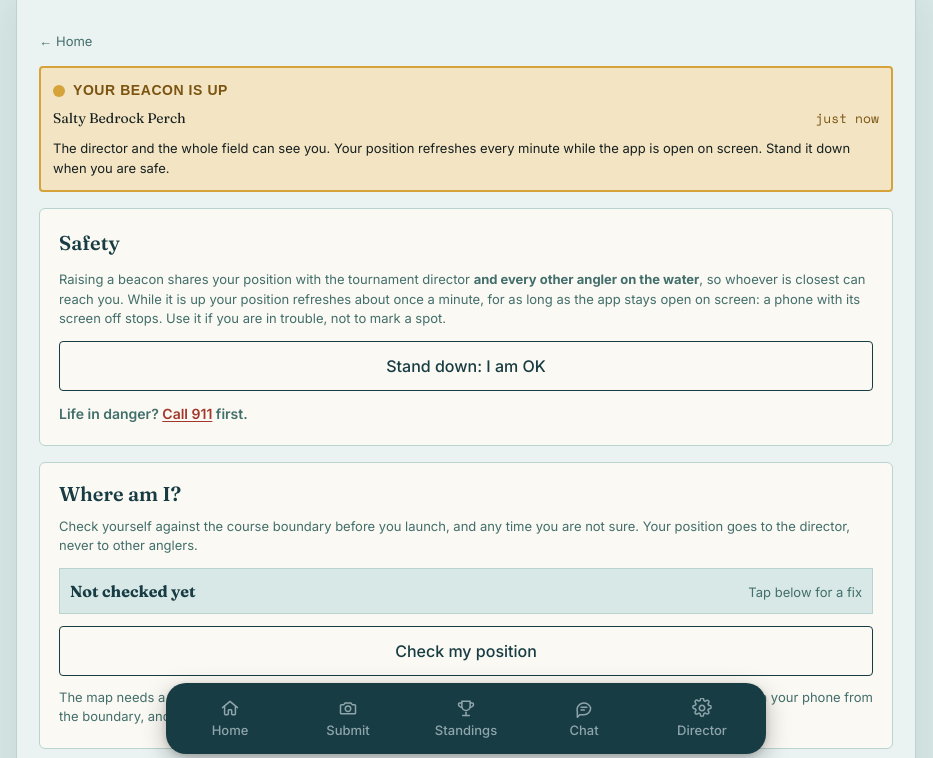
Test: raising a beacon › can be stood down once it is up
Expected: the text "Your beacon is up" is shown, [53,82,228,98]
Click the button "Stand down: I am OK". click: {"x": 466, "y": 366}
box: [59,340,873,390]
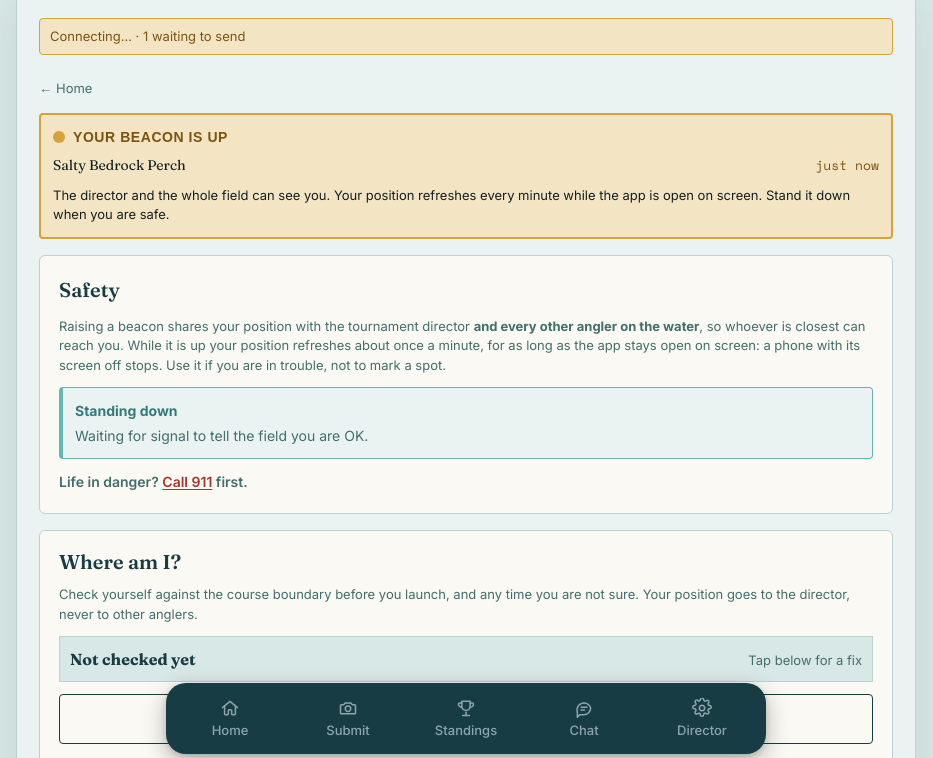
Expected: the text "Standing down" is shown, [75,402,178,419]
